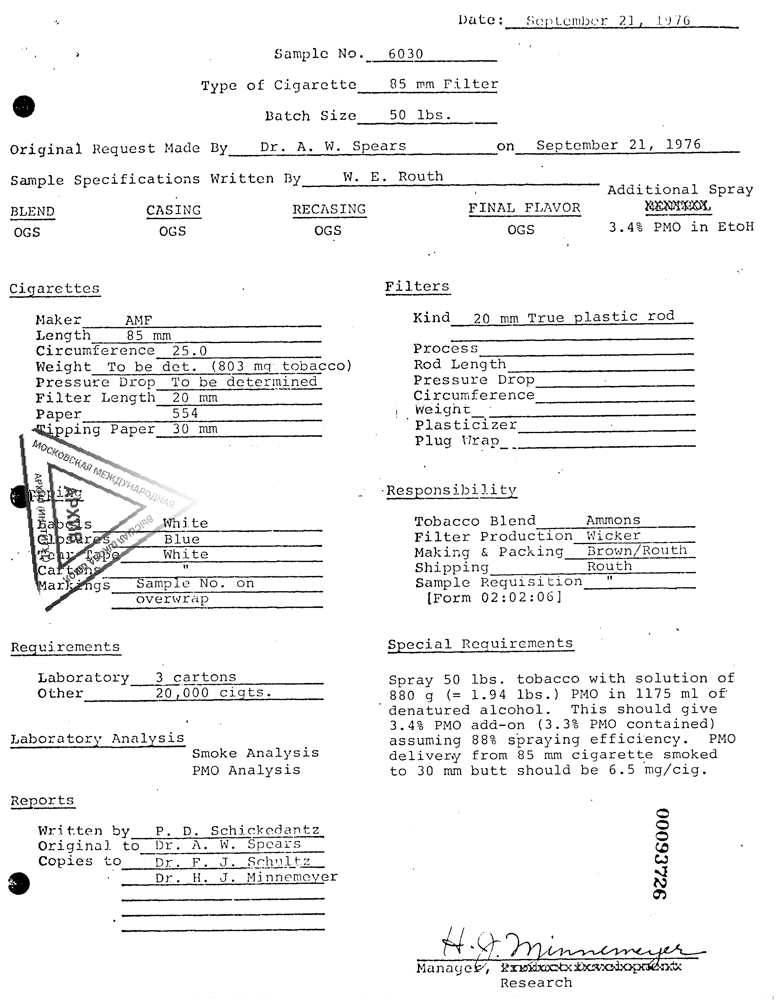triangle: (17, 401, 211, 619)
